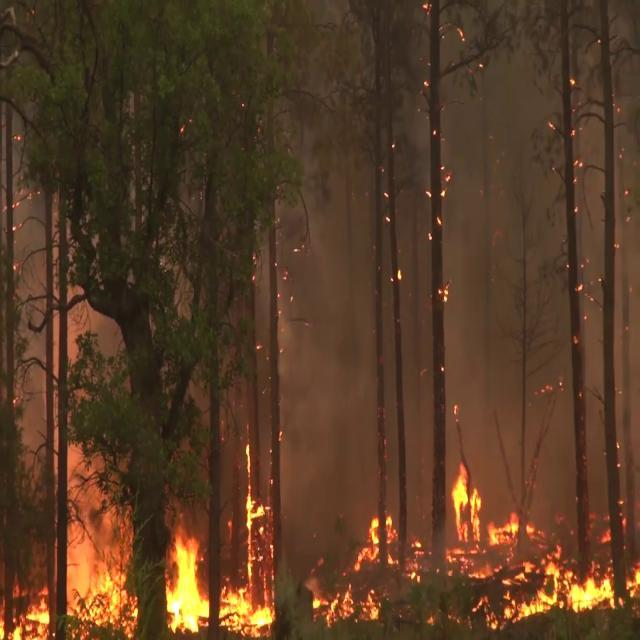Fire: (62, 436, 146, 634), (490, 515, 628, 624), (218, 433, 276, 634), (307, 504, 394, 626), (448, 460, 520, 560), (162, 525, 211, 635), (0, 592, 54, 640)
Smoke: (208, 13, 640, 495)
